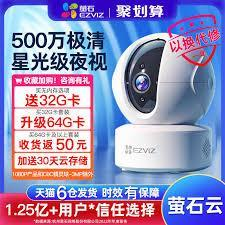maru: (107, 29, 214, 126)
